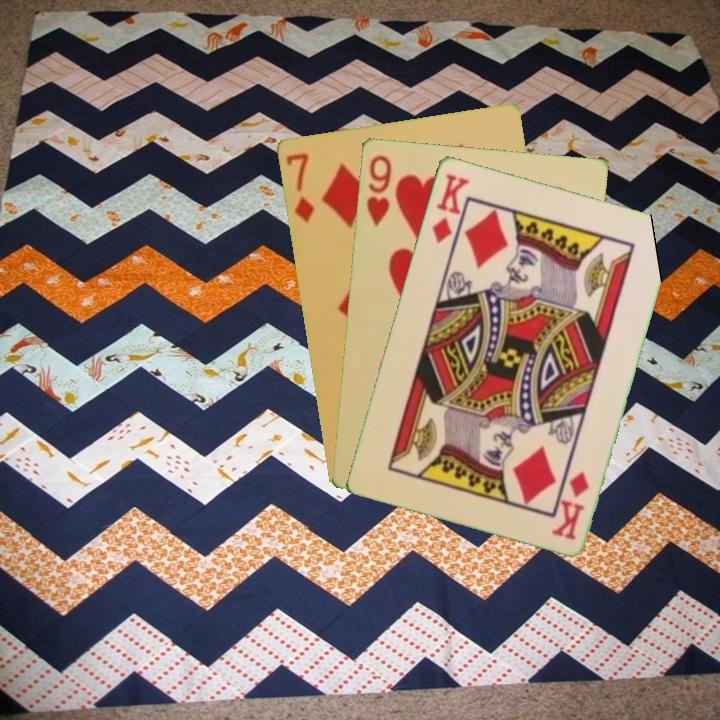7d: (281, 149, 317, 225)
9h: (363, 151, 394, 229)
Kd: (427, 170, 472, 246), (549, 467, 592, 542)
